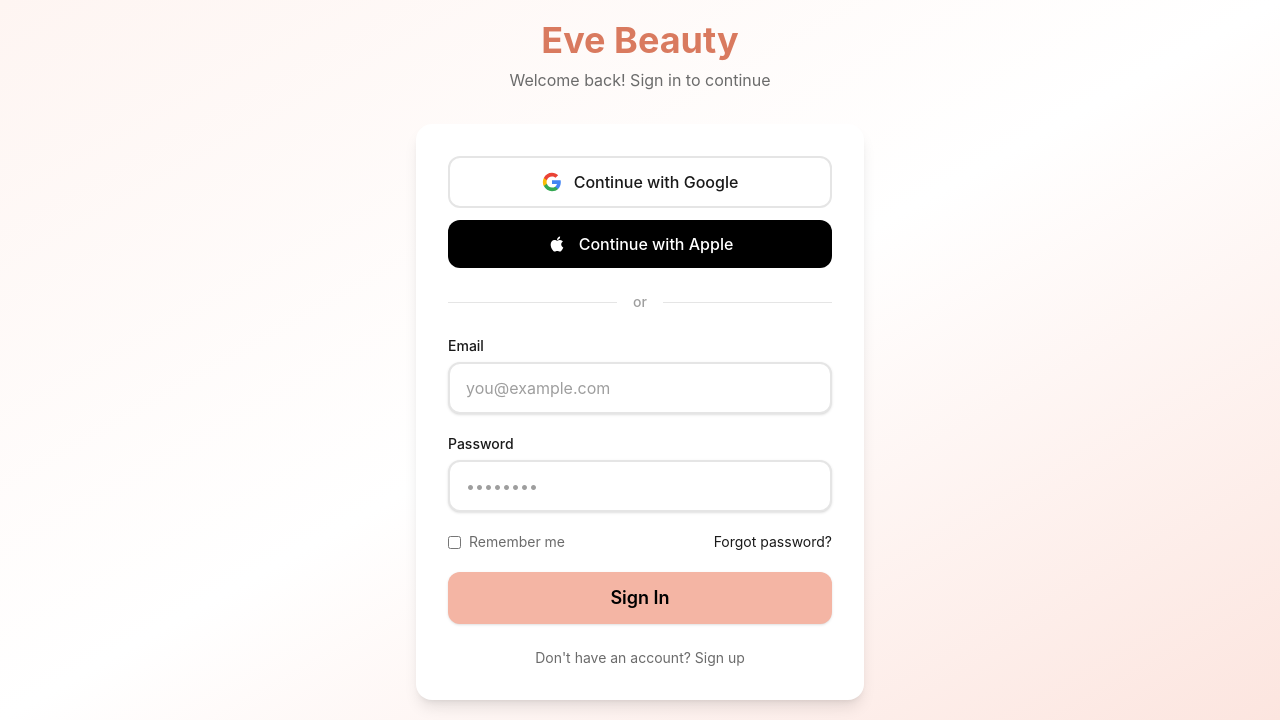
Test case: LoginPage › displays error message on failed login
Type "wrong@example.com" into the field with placeholder "you@example.com" at (640, 388), box [448, 362, 832, 414]
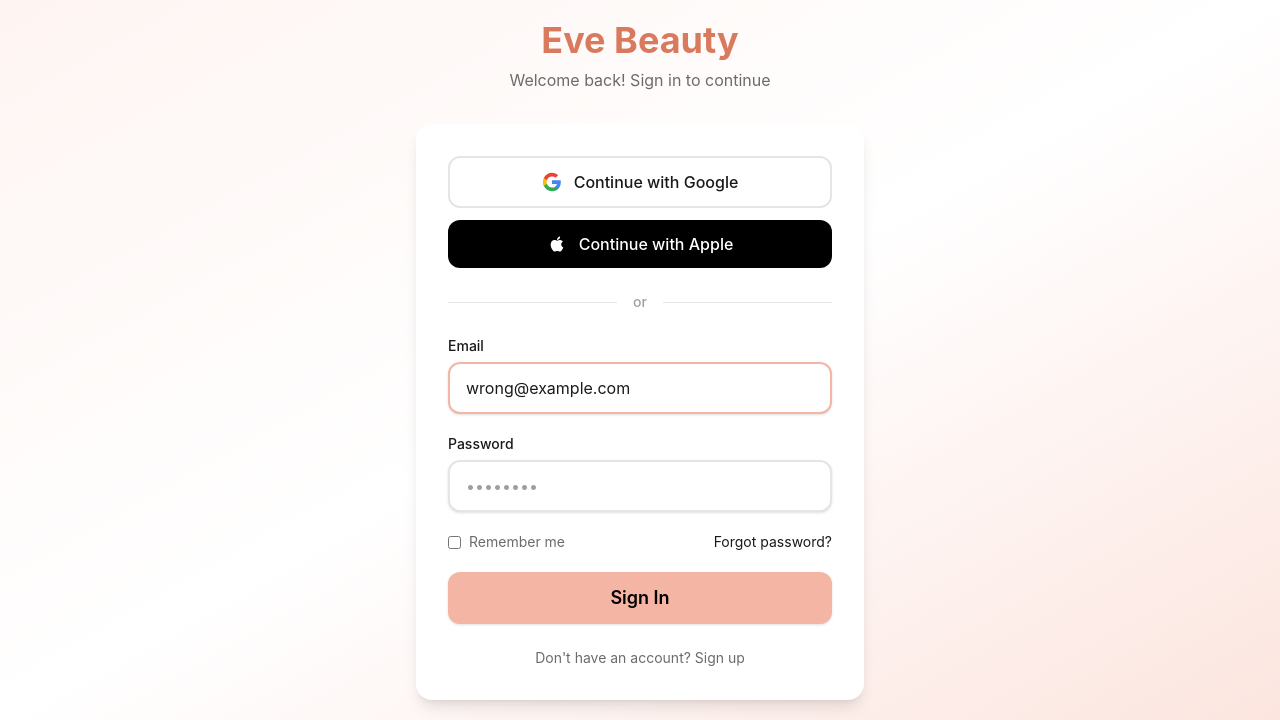
Type "wrongpassword" into the password field with placeholder "••••••••" at (640, 486), box [448, 460, 832, 512]
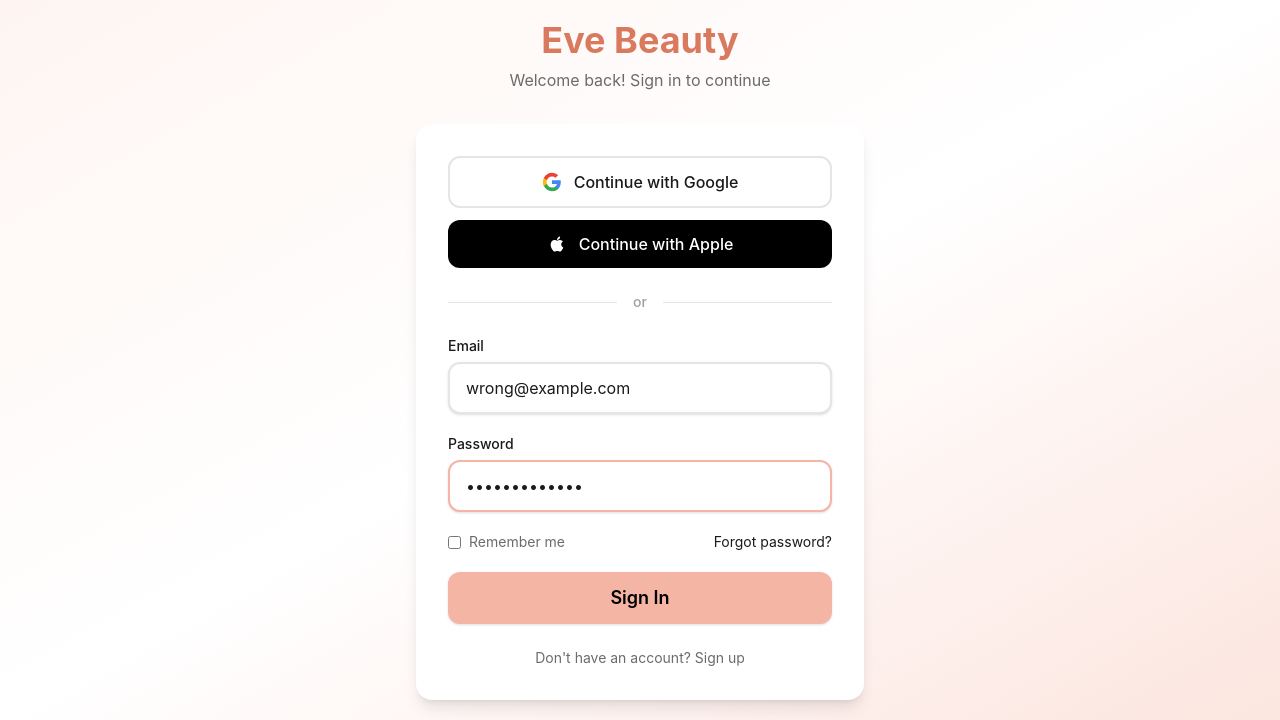
Click the button "Sign In" at (640, 598), box [448, 572, 832, 624]
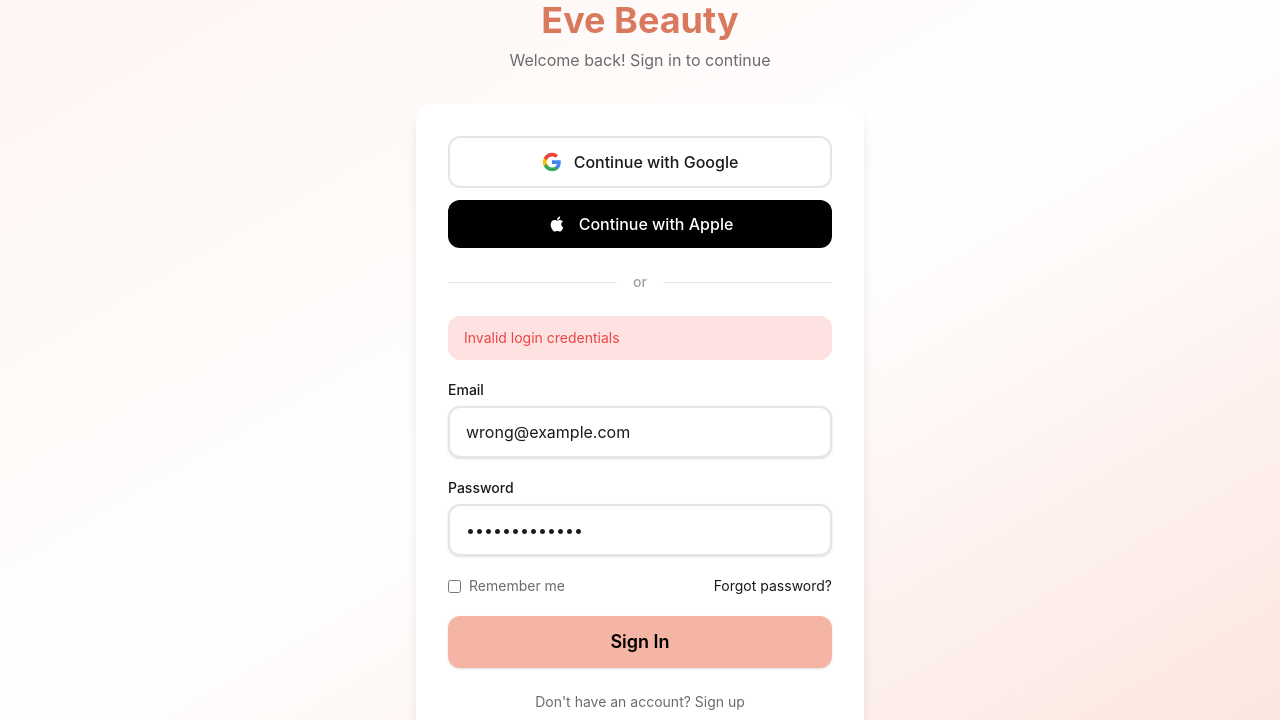
Check: the text "Invalid login credentials" is shown, box [448, 316, 832, 360]
